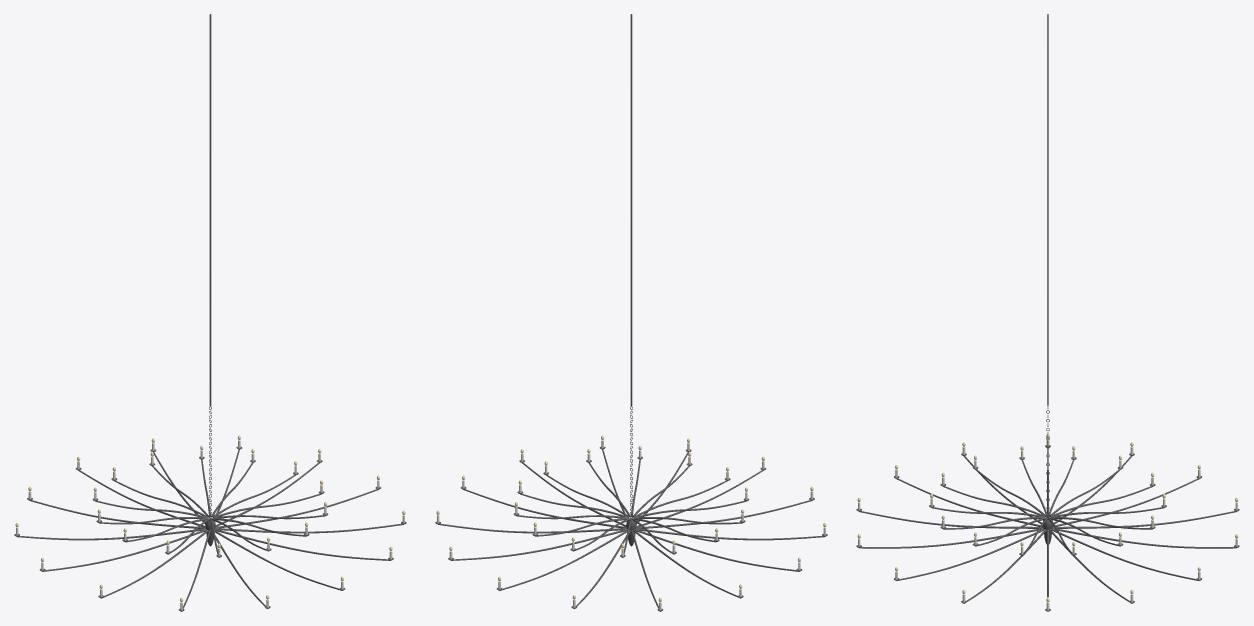
Rendered from lp_chandelier_hall.glb.
3 views of the same model, side by side, from view 1: azimuth 30°, elevation 25°; view 2: azimuth 150°, elevation 25°; view 3: azimuth 270°, elevation 25° (orthographic).
Parts seen in each view (by area): view 1: lp_chandelier_hall; view 2: lp_chandelier_hall; view 3: lp_chandelier_hall.
Boxes of the visible parts, bbox=[...] form: lp_chandelier_hall: bbox=[14, 14, 406, 611]; lp_chandelier_hall: bbox=[435, 14, 827, 611]; lp_chandelier_hall: bbox=[856, 14, 1239, 611].
Size of the model in its own units: 5.69 by 8.48 by 5.54.
